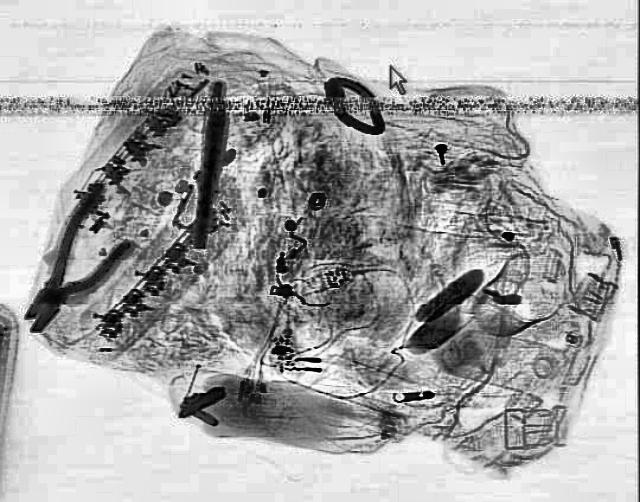Pliers: (0, 193, 146, 337)
